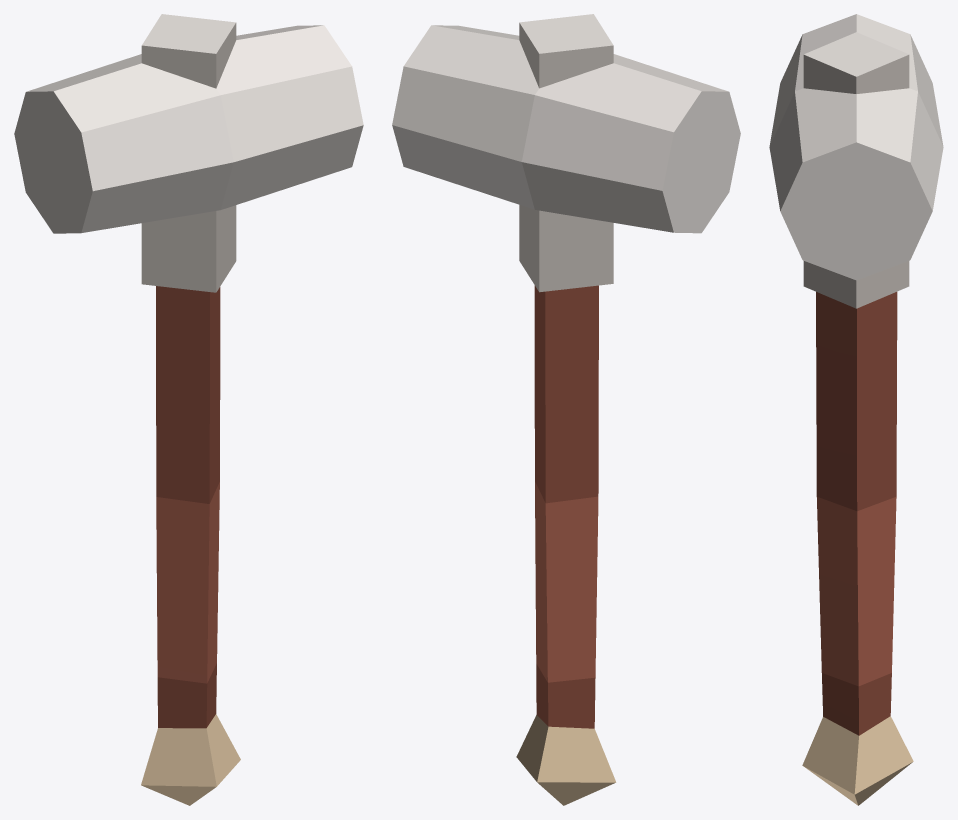
The model's file is hammer_1.glb.
The picture shows the model from 3 angles, left to right: view 1: azimuth 30°, elevation 25°; view 2: azimuth 150°, elevation 25°; view 3: azimuth 270°, elevation 25°; orthographic projection. The views are drawn at different scales.
Visible parts, largest first — view 1: hammer_1.001; view 2: hammer_1.001; view 3: hammer_1.001.
Part boxes in pixels (x1=…): hammer_1.001: x1=14, y1=14, x2=363, y2=805; hammer_1.001: x1=392, y1=14, x2=740, y2=805; hammer_1.001: x1=769, y1=14, x2=943, y2=805.
Bounding box in the file's own units: 0.3666 × 1 × 0.2102.
1 material, 1 textured.
